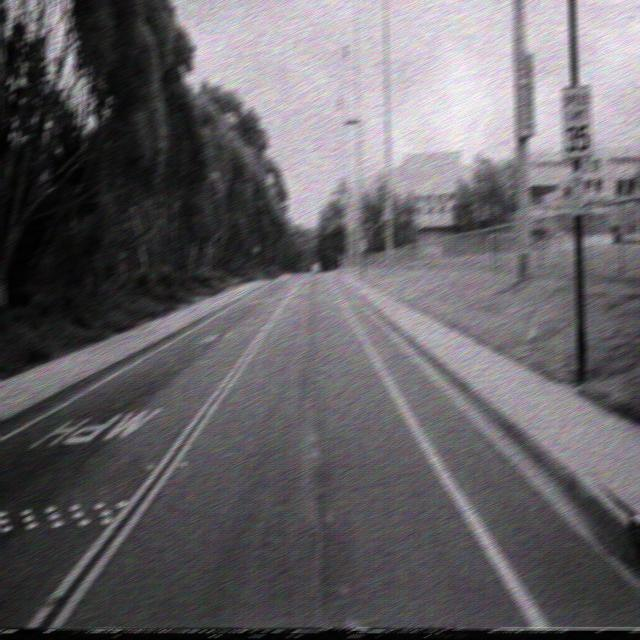speedLimit35: (560, 84, 594, 160)
